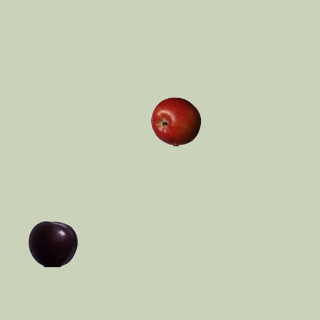Apple Braeburn: (150, 96, 200, 146)
Cherry Wax Black: (27, 218, 77, 268)
